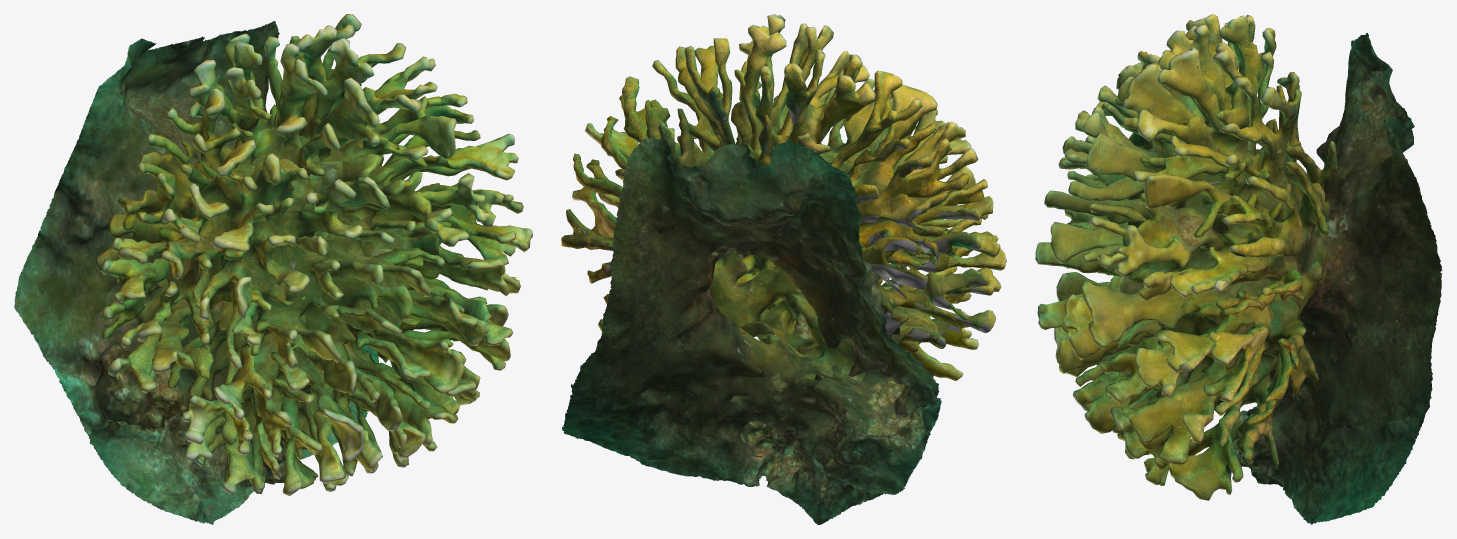
Rendered from BleachedCoral.obj.
3 renders of one model, left to right at view 1: azimuth 30°, elevation 25°; view 2: azimuth 150°, elevation 25°; view 3: azimuth 270°, elevation 25°, orthographic. The views are drawn at different scales.
Parts seen in each view (by area): view 1: Coral_32_mesh-90; view 2: Coral_32_mesh-90; view 3: Coral_32_mesh-90.
Part boxes in pixels (x1,y1,x2,y2): Coral_32_mesh-90: (14,14,532,524); Coral_32_mesh-90: (561,14,1006,524); Coral_32_mesh-90: (1035,14,1442,524).
Size of the model in its own units: 27.42 by 29.02 by 22.32.
6 materials, 5 textured.
